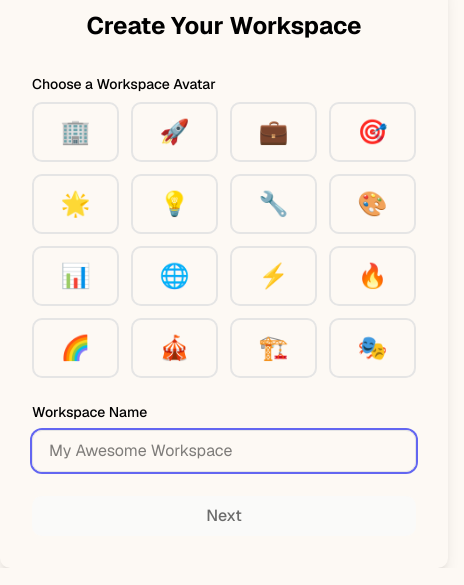
Scenario: CreateWorkspaceForm › shows loading state during submission
The width and height of the screenshot is (464, 585).
Type "Test Workspace" into the field with placeholder "My Awesome Workspace" at (224, 451), box [32,430,416,472]
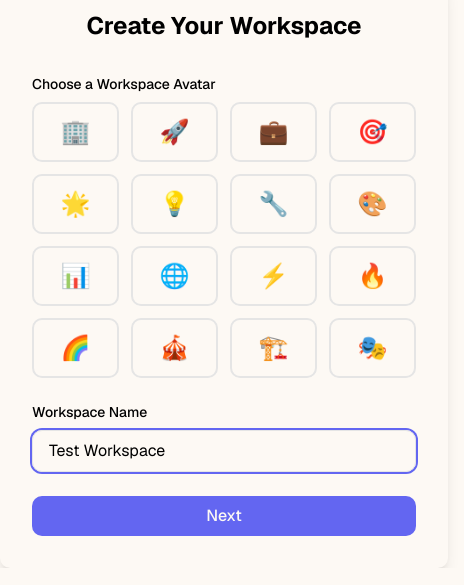
Click the button "Next" at (224, 516), box [32,496,416,536]
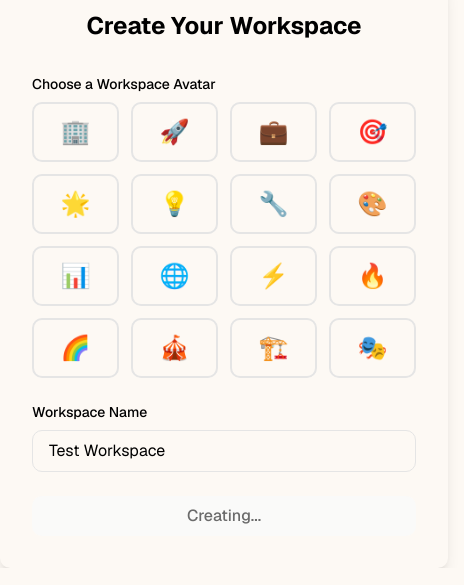
expect the button "Creating..." is disabled: met, box [32,496,416,536]
